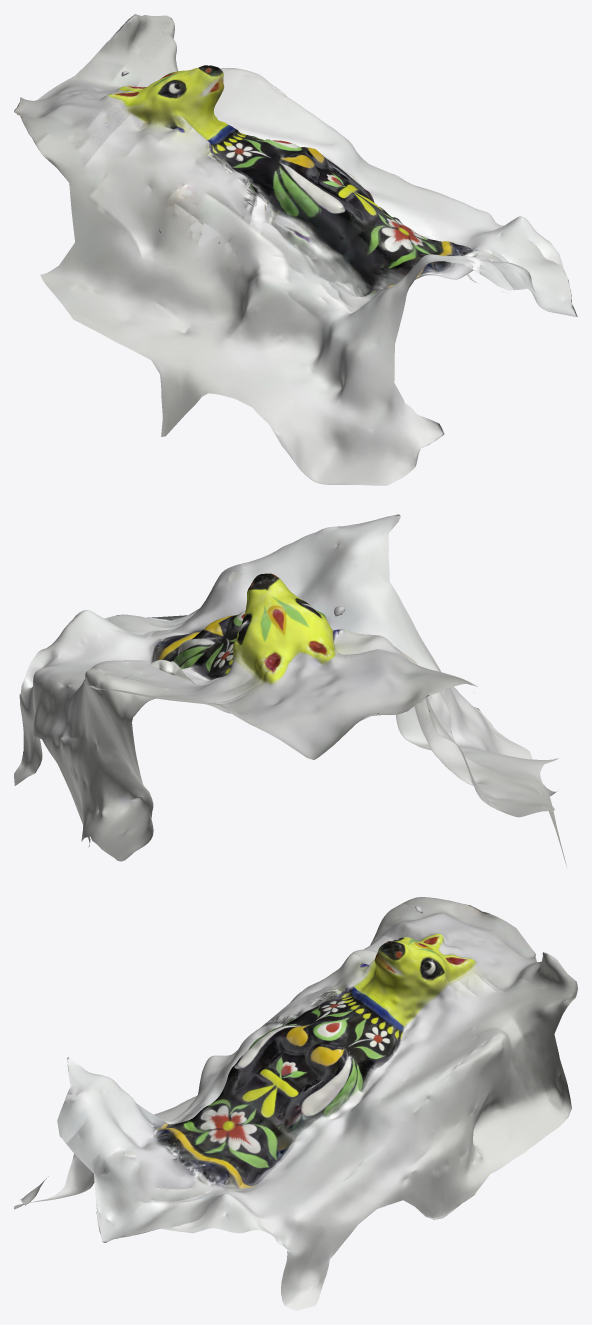
The picture shows the model from 3 angles, top to bottom: view 1: azimuth 30°, elevation 25°; view 2: azimuth 150°, elevation 25°; view 3: azimuth 270°, elevation 25°; orthographic projection. The views are drawn at different scales.
Size of the model in its own units: 1.11 by 0.703 by 1.29.
1 material, 1 textured.
